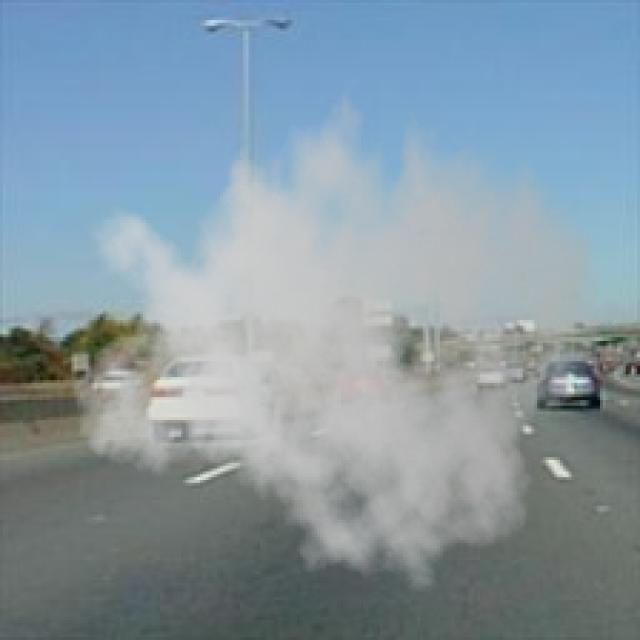Smoke: (71, 65, 603, 606)
